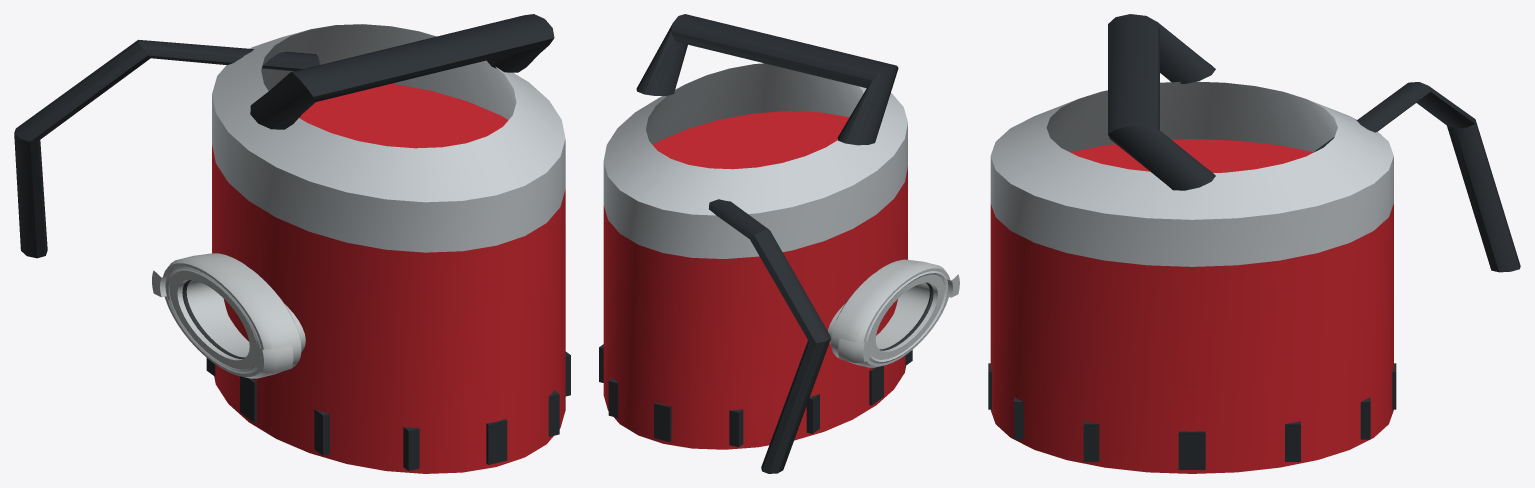
The model's file is ob_water_pump.glb.
3 views of the same model, side by side, from view 1: azimuth 30°, elevation 25°; view 2: azimuth 150°, elevation 25°; view 3: azimuth 270°, elevation 25° (orthographic). The views are drawn at different scales.
Parts seen in each view (by area): view 1: ob_water_pump; view 2: ob_water_pump; view 3: ob_water_pump.
Part boxes in pixels (box(x1,y1,x2,y2)): ob_water_pump: box(14, 14, 570, 473); ob_water_pump: box(599, 14, 959, 473); ob_water_pump: box(988, 14, 1520, 473).
Bounding box in the file's own units: 0.33 × 0.31 × 0.44.
